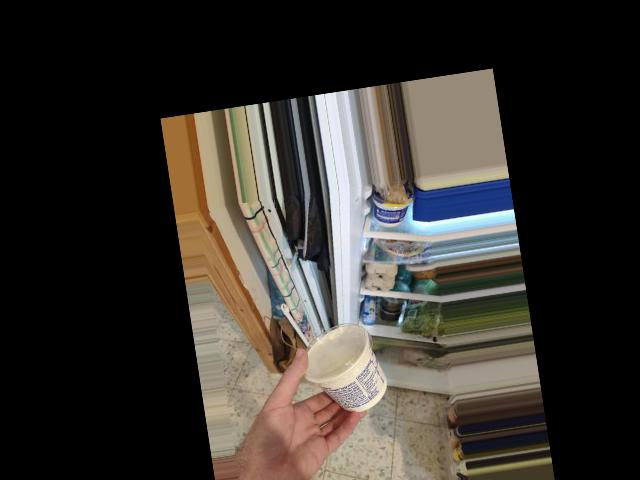cotage: (307, 320, 386, 414)
